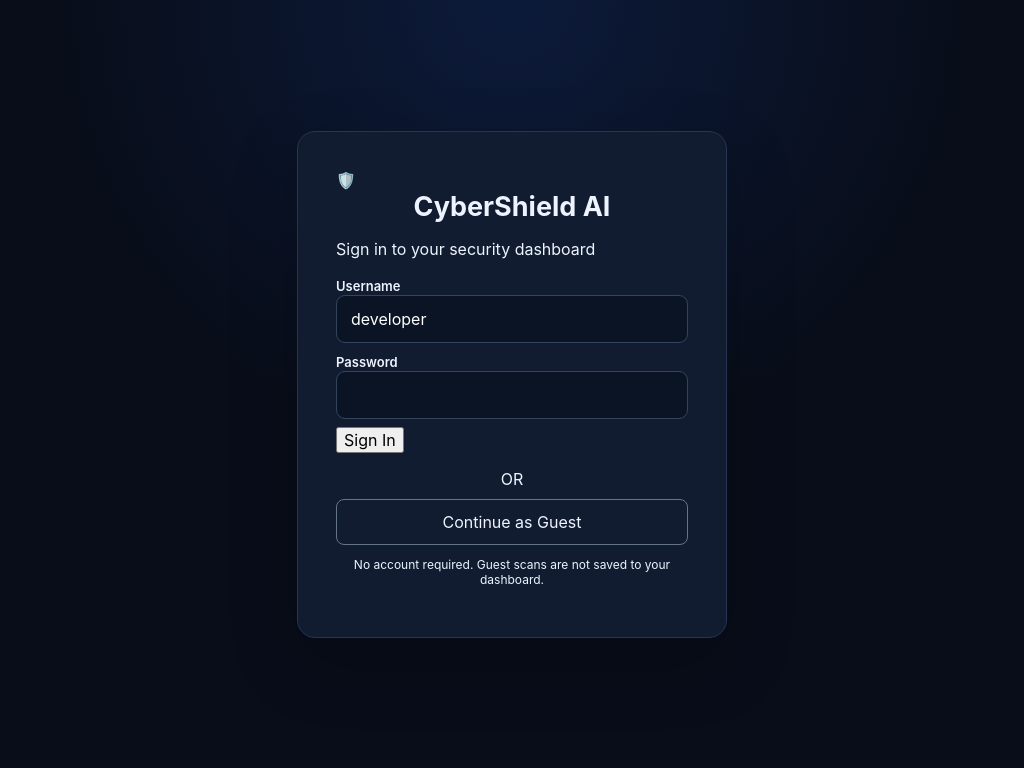
CyberShield AI Dashboard › logs out successfully
Type "test-password" into the password field labelled "Password".
click(512, 394); type("test-password")  # box [336,370,688,418]
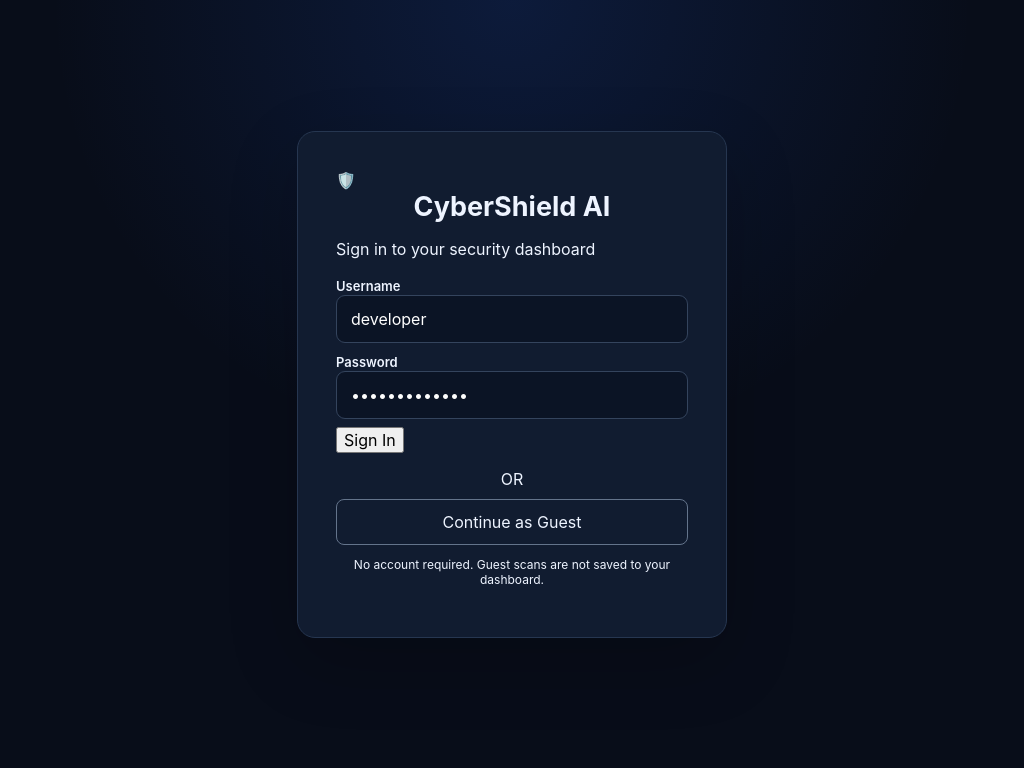
Click the button "Sign In".
click(370, 440)  # box [336,426,404,452]
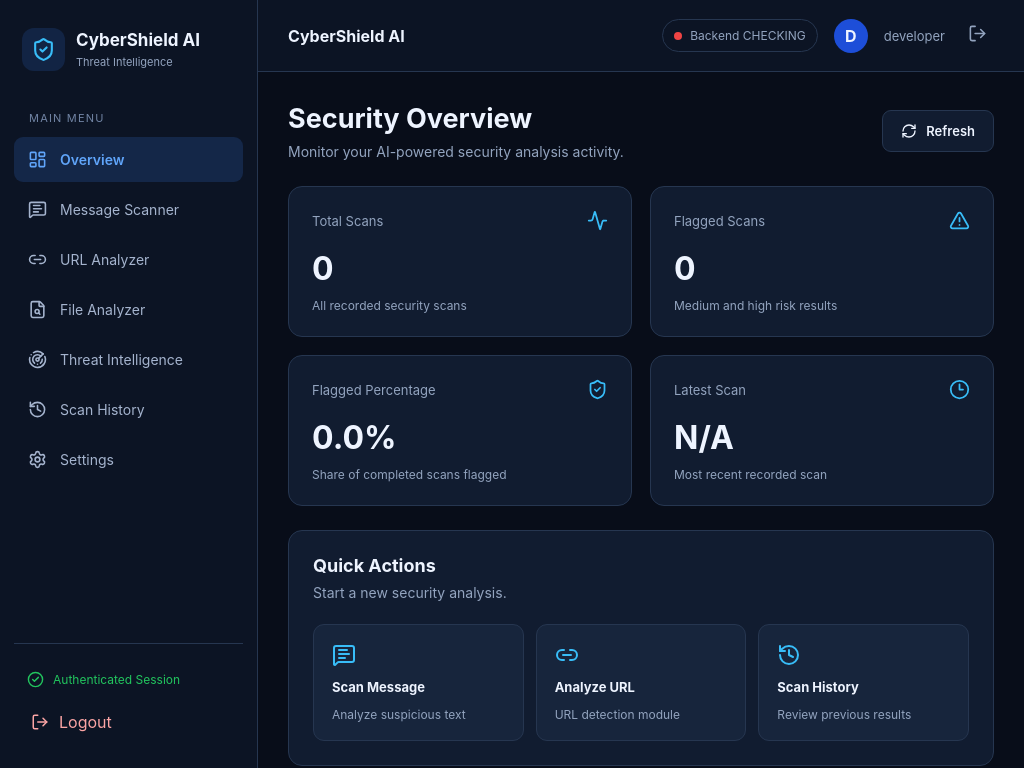
Check: the heading "Security Overview" is shown, box [288,102,532,135]
Check: the number of buttons "Logout" is 2
Click the button "Logout".
click(128, 722)  # box [19,700,238,744]
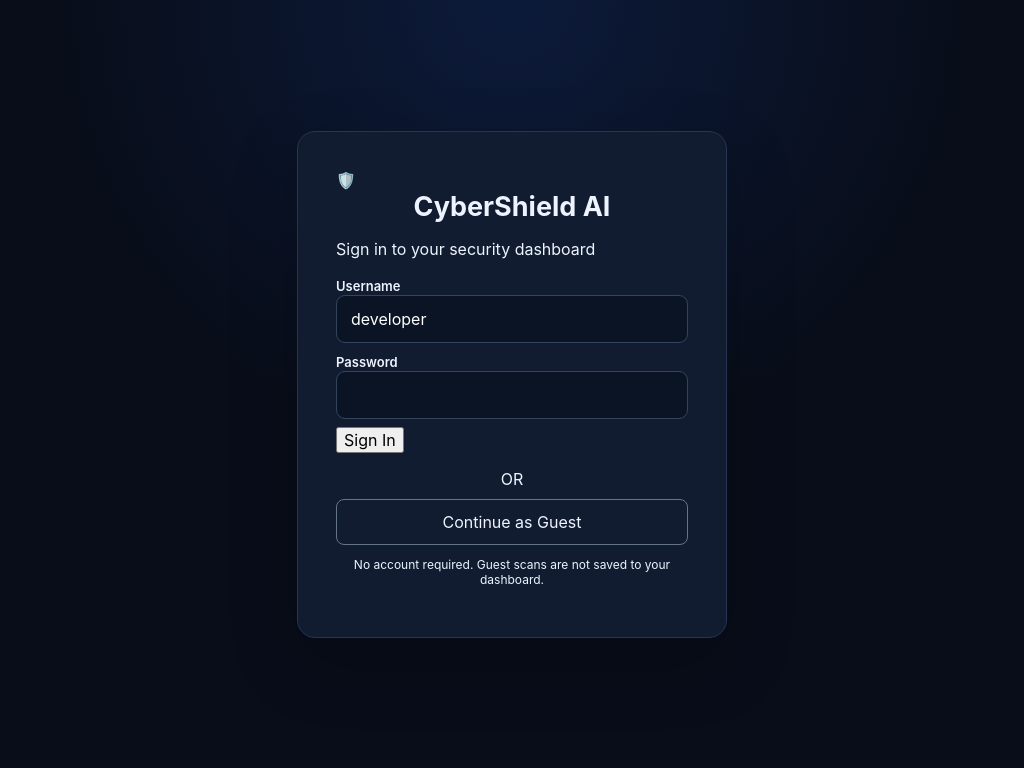
Check: the button "Sign In" is shown, box [336,426,404,452]
